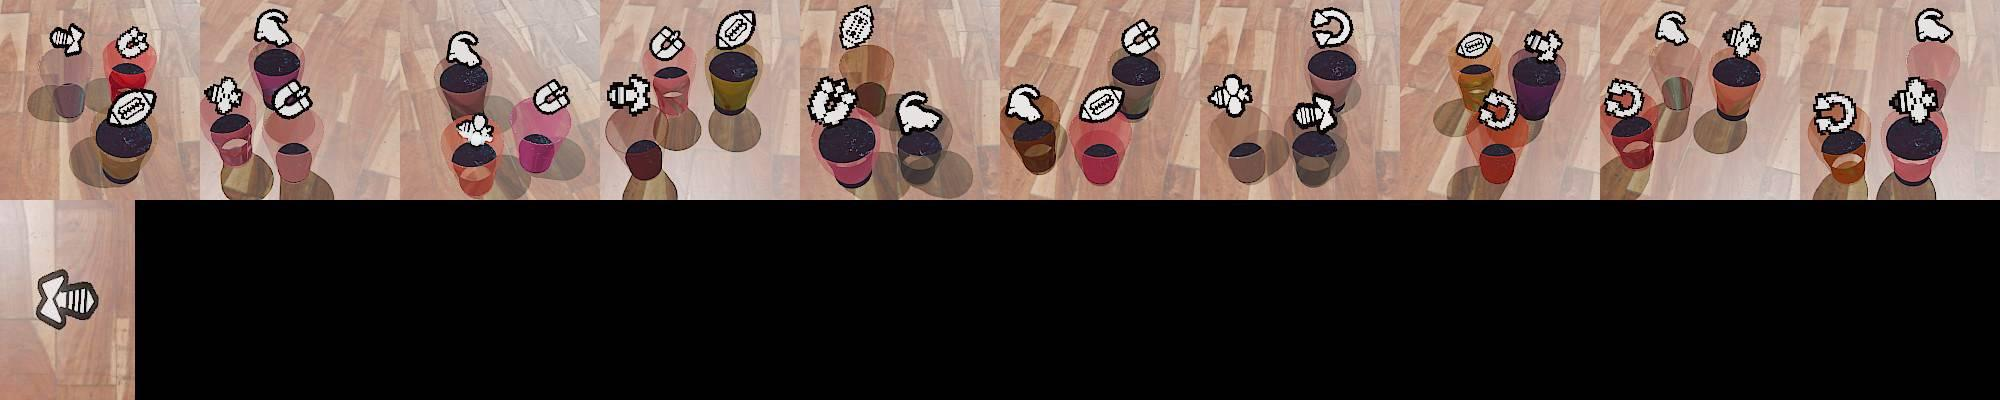icon: (34, 269, 100, 330), (807, 75, 859, 127), (1889, 76, 1939, 123), (106, 86, 158, 126), (1813, 90, 1859, 135), (895, 90, 941, 134), (1208, 73, 1254, 117), (606, 72, 653, 115), (1292, 91, 1341, 132), (1602, 77, 1646, 121), (1076, 85, 1125, 124), (251, 9, 295, 51), (1309, 7, 1353, 49), (714, 9, 756, 52), (1476, 88, 1518, 131), (1721, 19, 1763, 60), (270, 79, 314, 118), (204, 74, 245, 115), (838, 5, 875, 50), (1522, 27, 1566, 64), (1121, 16, 1160, 56), (1005, 84, 1044, 123), (1913, 8, 1954, 45), (444, 30, 482, 69), (455, 111, 496, 145), (533, 78, 571, 114), (49, 22, 87, 57), (649, 25, 685, 61), (1654, 10, 1688, 46), (1456, 30, 1494, 61), (116, 25, 150, 59)
